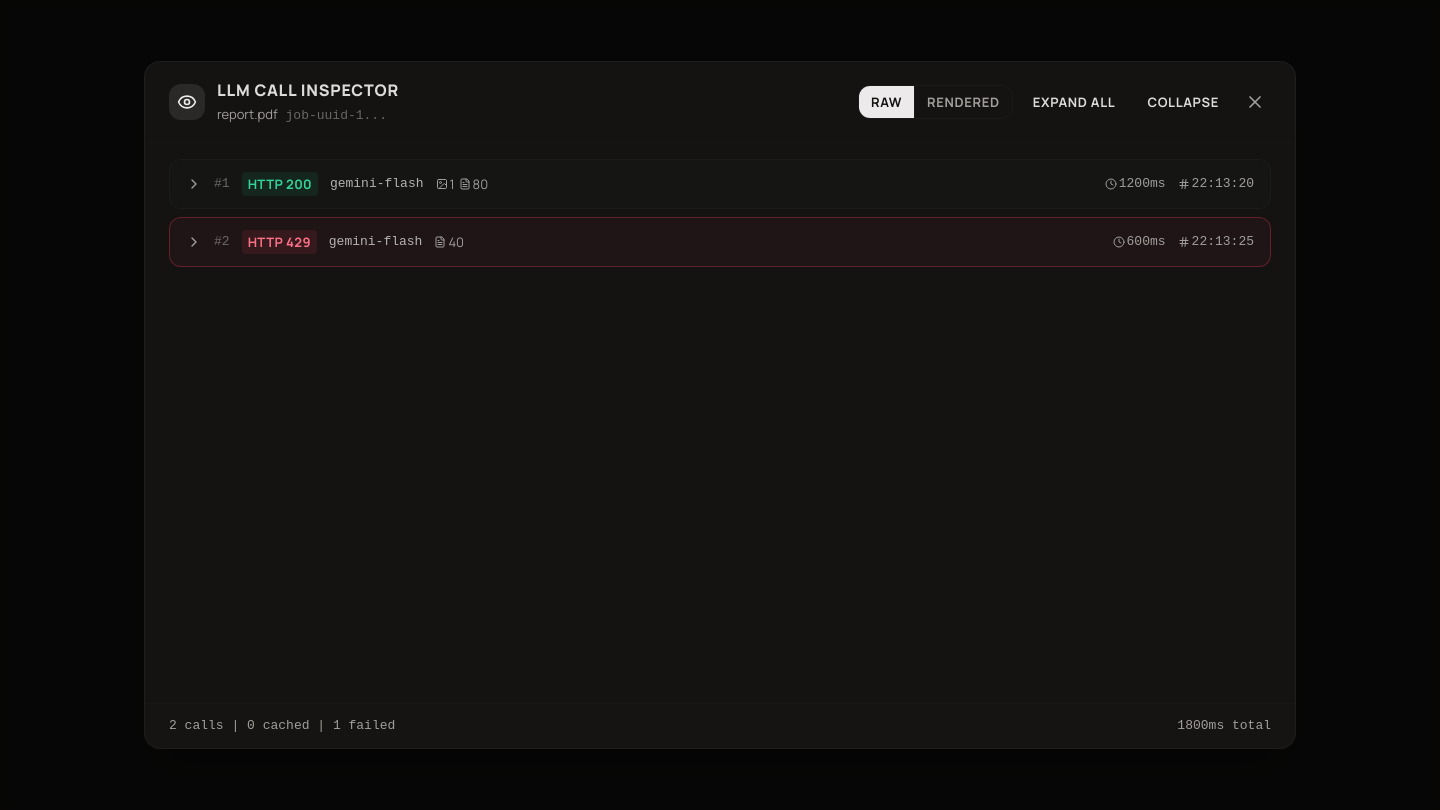
LlmTraceViewer › expands a card on click to reveal the prompt image and response
Click the first card header to expand.
Click the text "HTTP 200" at [280, 184], box x1=242 y1=172 x2=318 y2=196
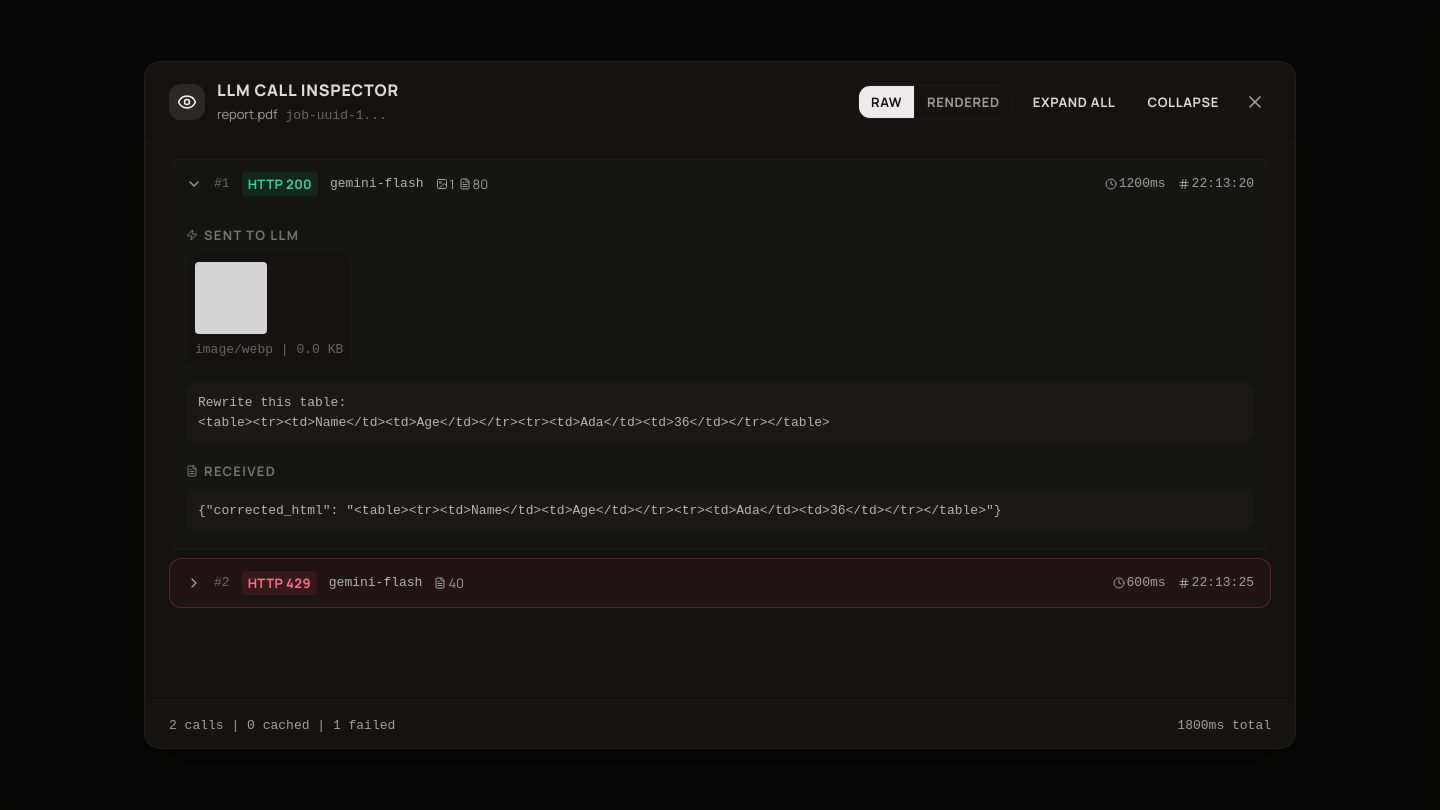
Now the heading "Sent to LLM" is shown, box x1=186 y1=226 x2=299 y2=244
Now the heading "Received" is shown, box x1=186 y1=462 x2=276 y2=480
Now the text "corrected_html" is shown, box x1=198 y1=503 x2=1002 y2=518
